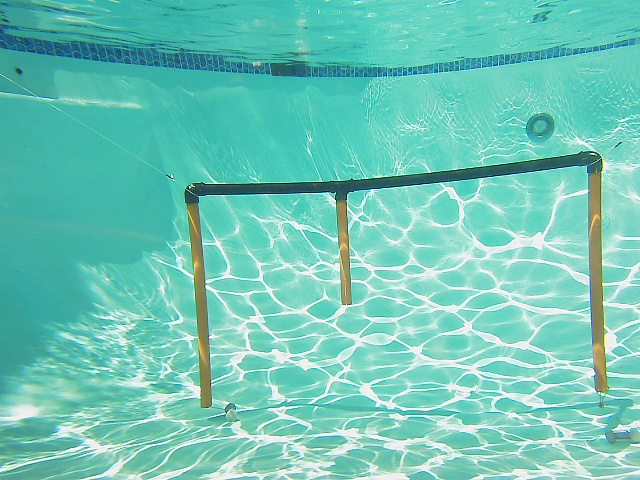Gate: (182, 197, 214, 410), (584, 170, 611, 394), (332, 193, 357, 309)
